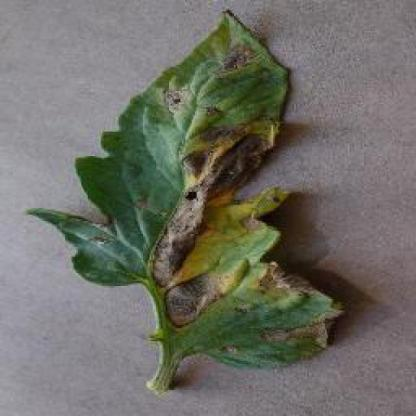Tomato_Blight: (27, 13, 343, 370)
